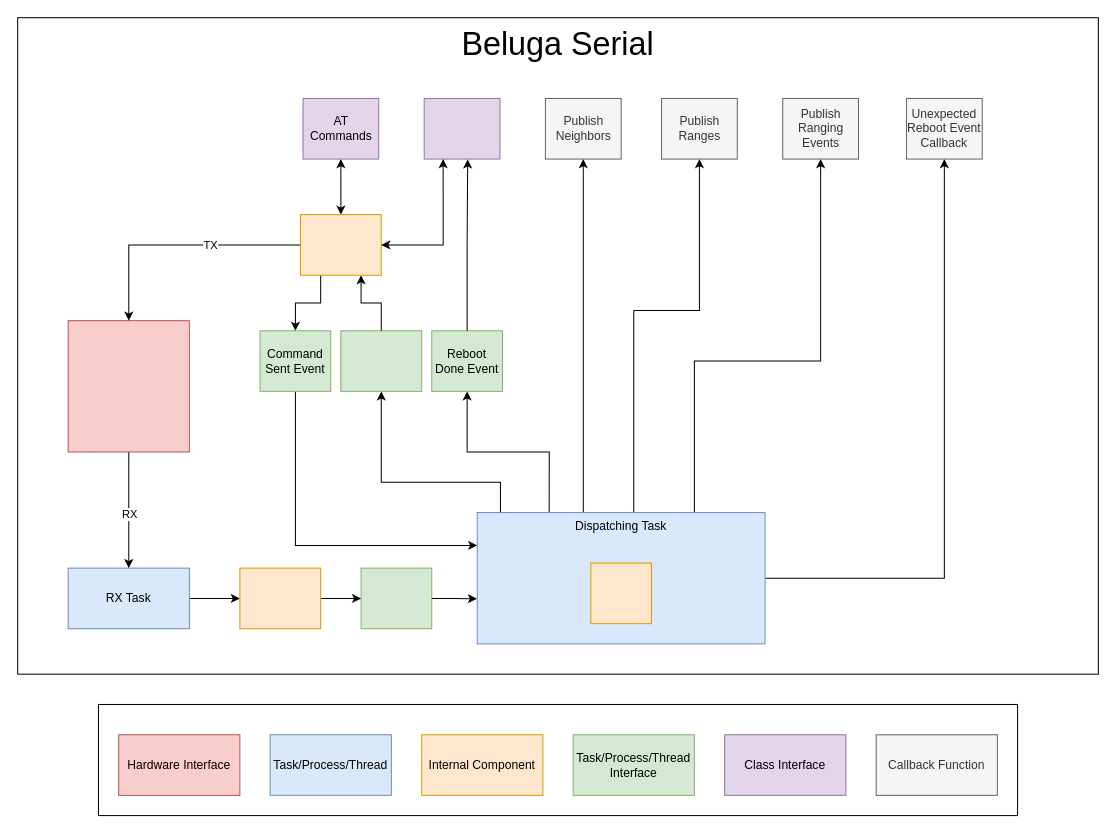
The diagram is 1116 pixels wide and 833 high, and some of its shapes have lost their labels. Here are the shapes that lost their labels. From the top down, the box of each, then its label:
(423, 97, 500, 159): Reboot Command
(299, 214, 381, 275): Command Interface
(340, 330, 422, 391): Response Queue (Size = 1)
(67, 320, 189, 452): Beluga USB
(239, 567, 321, 629): Frame Parsing
(360, 567, 432, 629): RX Batch Queue (Size = 10)
(590, 562, 651, 624): Neighbors List
(97, 703, 1018, 816): Key
